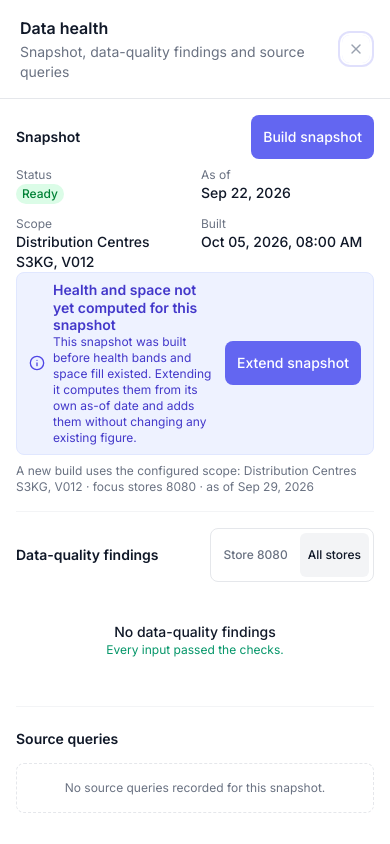
Test case: not-computed snapshots and extending (S2-R20) › says health and space are not computed, extends from the drawer and reports Extended
Expected: the text with test id "content-not-computed" reads "Health and space not yet computed for this snapshot", x1=53 y1=281 x2=197 y2=333
Click the button with test id "extend-snapshot" at (293, 363), box x1=225 y1=341 x2=361 y2=385
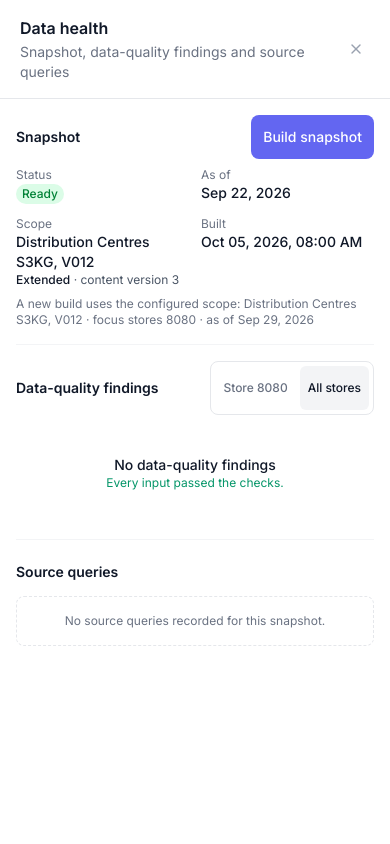
Expected: the text with test id "extension-status" reads "Extended", x1=16 y1=272 x2=70 y2=287
